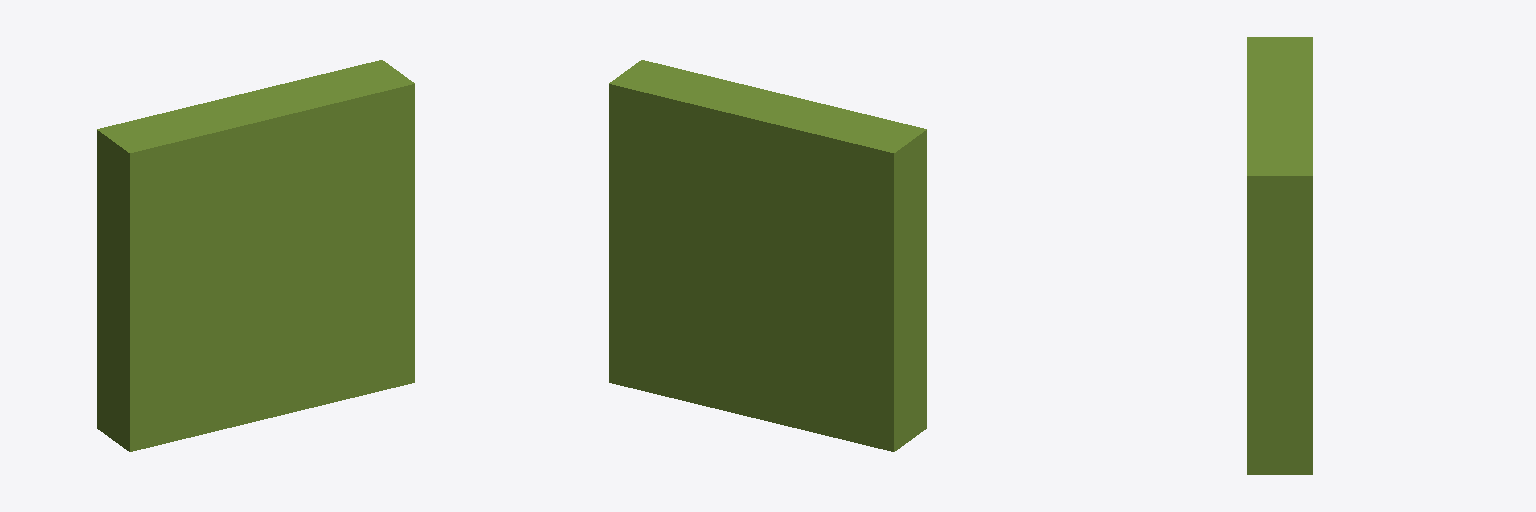
The picture shows the model from 3 angles: view 1: azimuth 30°, elevation 25°; view 2: azimuth 150°, elevation 25°; view 3: azimuth 270°, elevation 25°; orthographic projection.
Parts seen in each view (by area): view 1: Grass; view 2: Grass; view 3: Grass.
Boxes of the visible parts, x1,y1,x2,y2 form: Grass: [97, 60, 414, 451]; Grass: [609, 60, 926, 451]; Grass: [1247, 37, 1312, 474].
Size of the model in its own units: 1 by 1 by 0.2.
1 materials, 1 textured.